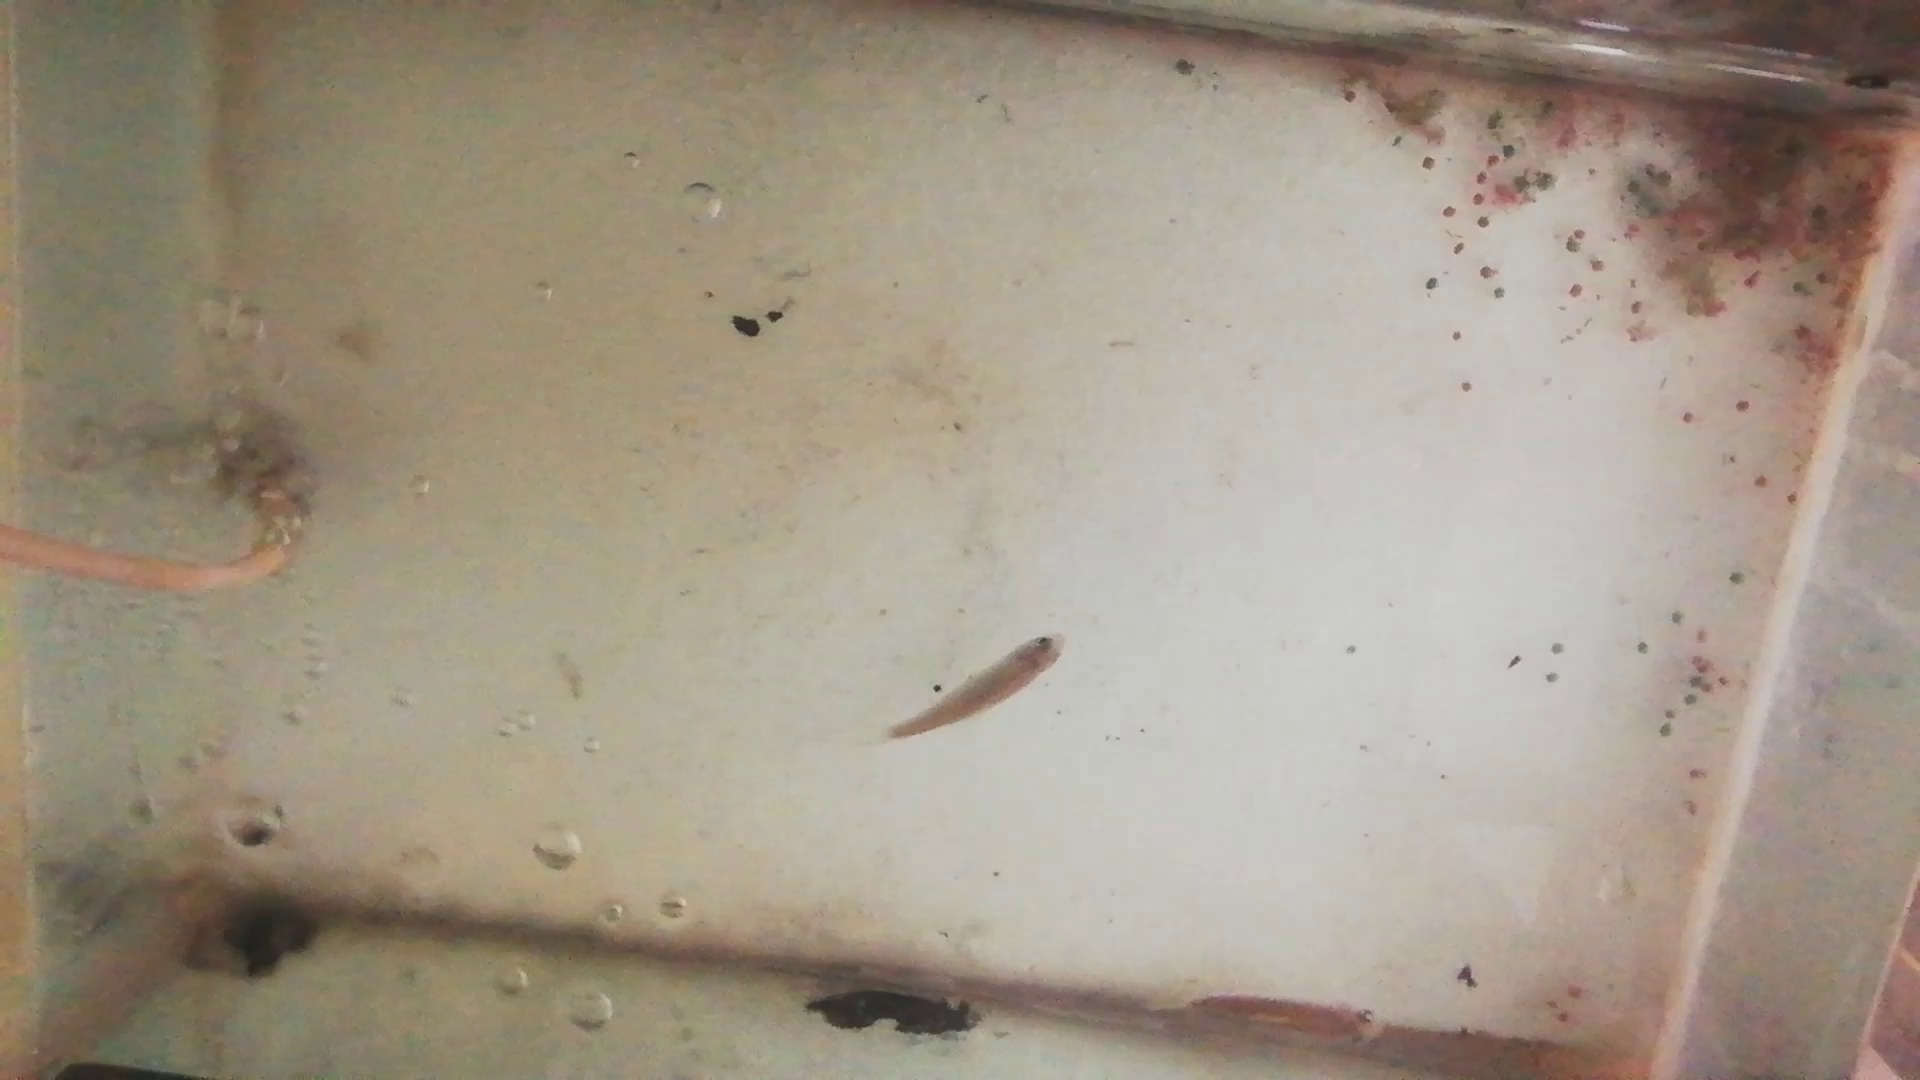fish: (887, 632, 1068, 735), (1193, 996, 1382, 1048)
